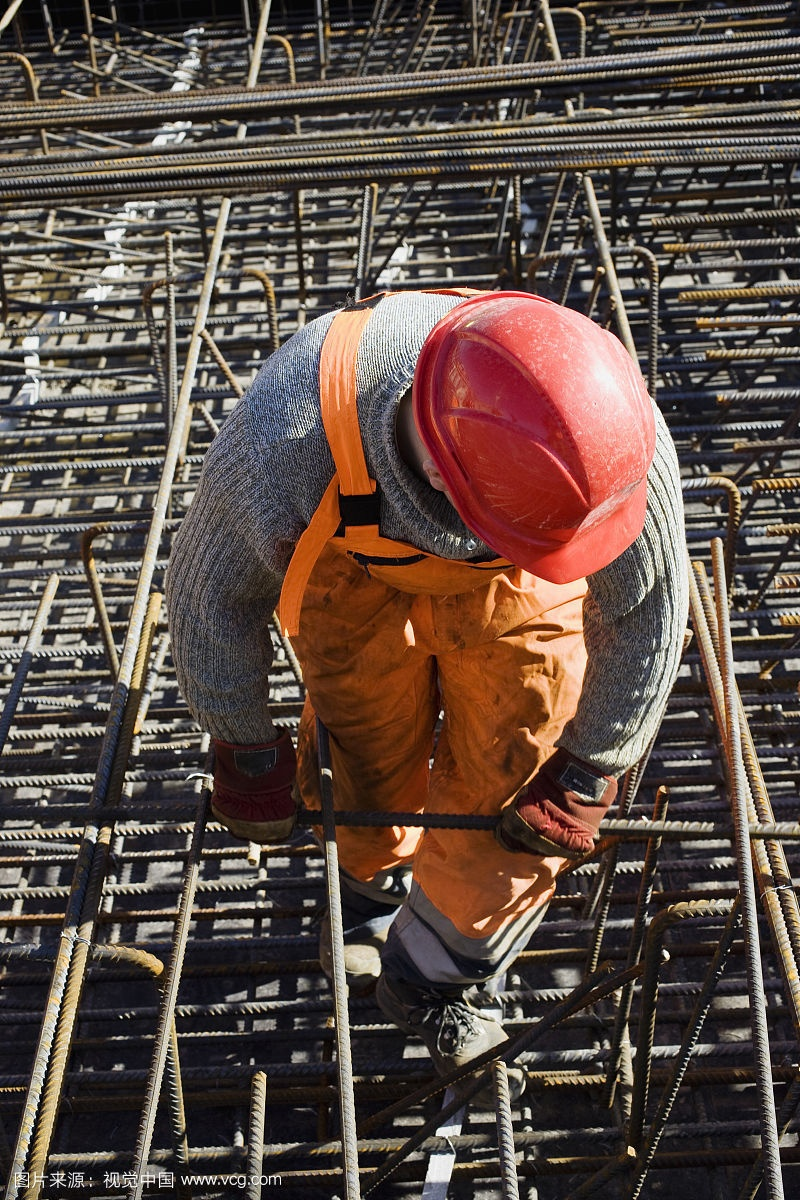red: (380, 298, 659, 589)
